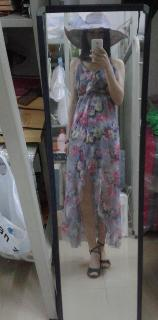sling: (62, 56, 122, 249)
